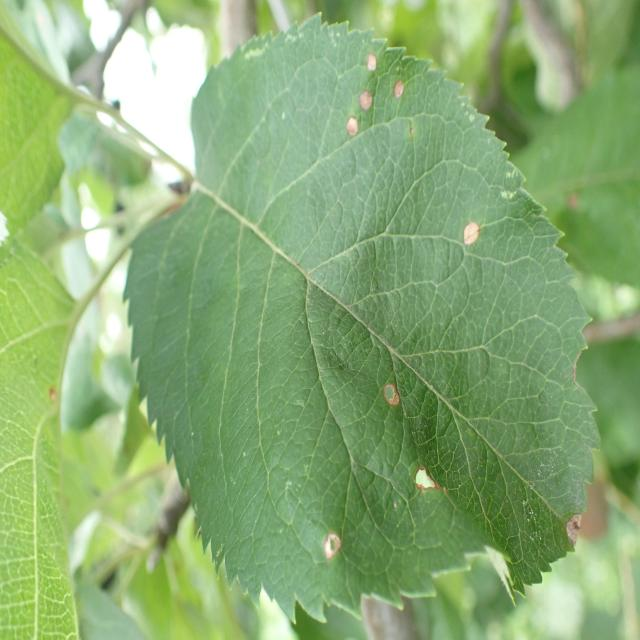frog-eye-leaf-spot: (120, 8, 601, 625)
